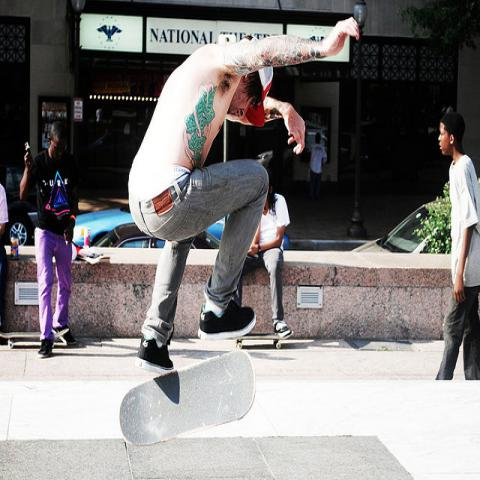car: (72, 205, 290, 252), (351, 200, 439, 253), (93, 222, 220, 251), (0, 160, 38, 246)
